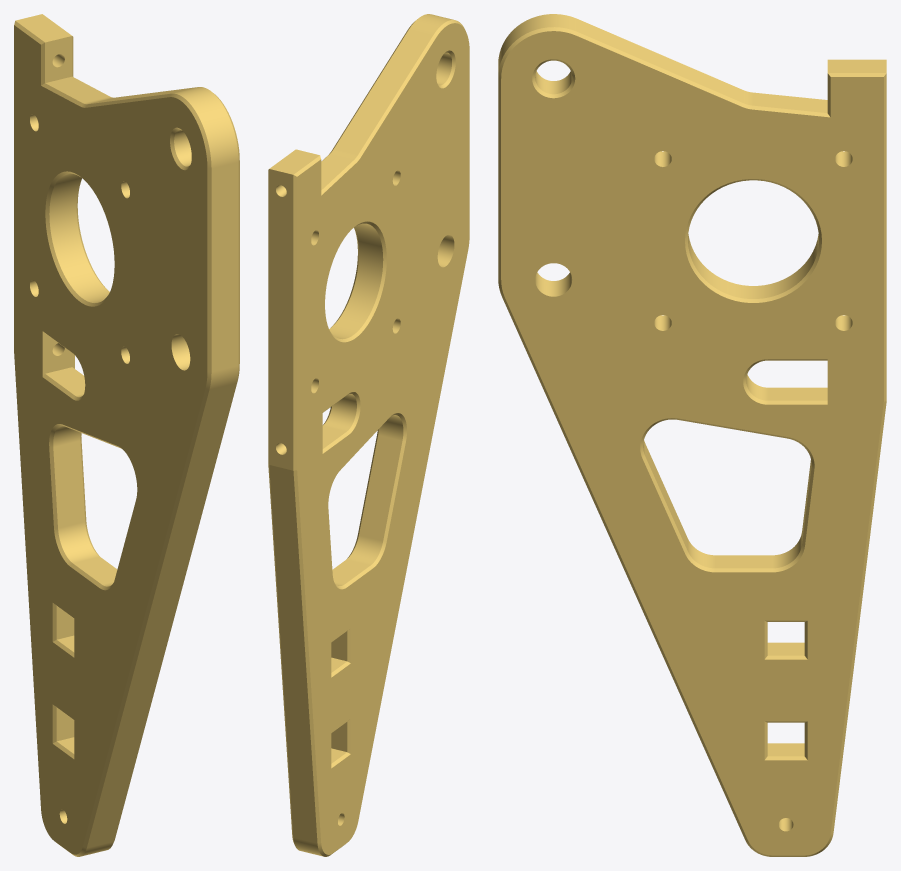
File: motor_mount - Part 1.obj
The picture shows the model from 3 angles, left to right: view 1: azimuth 30°, elevation 25°; view 2: azimuth 150°, elevation 25°; view 3: azimuth 270°, elevation 25°; orthographic projection. The views are drawn at different scales.
Parts seen in each view (by area): view 1: mesh1, mesh16, mesh28, mesh116, mesh32, mesh56, mesh11, mesh60, mesh49, mesh21, mesh40, mesh81 (+10 smaller); view 2: mesh1, mesh25, mesh51, mesh37, mesh116, mesh69, mesh18, mesh24, mesh83, mesh70, mesh35, mesh115 (+9 smaller); view 3: mesh114, mesh37, mesh116, mesh23, mesh44, mesh117, mesh32, mesh40, mesh45, mesh79, mesh35, mesh42 (+1 smaller).
Boxes of the visible parts, x1,y1,x2,y2 form: mesh1: (14, 25, 207, 854); mesh16: (87, 383, 236, 847); mesh28: (211, 162, 238, 371); mesh116: (49, 173, 109, 302); mesh32: (172, 87, 238, 168); mesh56: (53, 441, 85, 528); mesh11: (83, 388, 209, 847); mesh60: (58, 522, 99, 563); mesh49: (45, 36, 72, 82); mesh21: (207, 168, 211, 371); mesh40: (45, 76, 109, 102); mesh81: (42, 331, 74, 376); mesh1: (297, 23, 469, 854); mesh25: (269, 465, 317, 842); mesh51: (269, 169, 293, 470); mesh37: (334, 30, 432, 154); mesh116: (329, 223, 383, 339); mesh69: (359, 435, 402, 540); mesh18: (293, 470, 320, 843); mesh24: (293, 175, 296, 470); mesh83: (323, 394, 356, 431); mesh70: (347, 535, 382, 565); mesh35: (269, 149, 319, 174); mesh115: (329, 221, 386, 342); mesh114: (501, 31, 883, 855); mesh37: (577, 19, 743, 102); mesh116: (688, 234, 818, 298); mesh23: (502, 297, 747, 840); mesh44: (830, 401, 886, 833); mesh117: (685, 179, 821, 302); mesh32: (498, 14, 577, 71); mesh40: (752, 92, 827, 112); mesh45: (884, 73, 886, 401); mesh79: (768, 387, 827, 400); mesh35: (827, 59, 886, 72); mesh42: (576, 32, 743, 106).
Bounding box in the file's own units: 0.00635 × 0.1571 × 0.0667.
